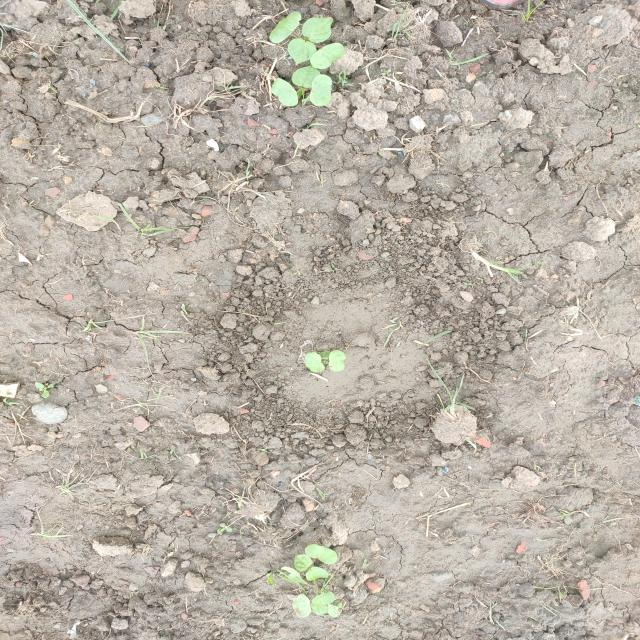seedling: (269, 12, 302, 44), (310, 43, 344, 69), (287, 38, 317, 66), (302, 17, 334, 43), (310, 74, 333, 107), (271, 78, 298, 106), (305, 544, 337, 565), (292, 65, 320, 88), (281, 566, 307, 585), (292, 594, 311, 617), (305, 352, 325, 372), (329, 350, 346, 372), (311, 591, 335, 605), (306, 567, 328, 581), (294, 554, 312, 571), (327, 603, 342, 617), (311, 603, 328, 615), (320, 351, 331, 359)
